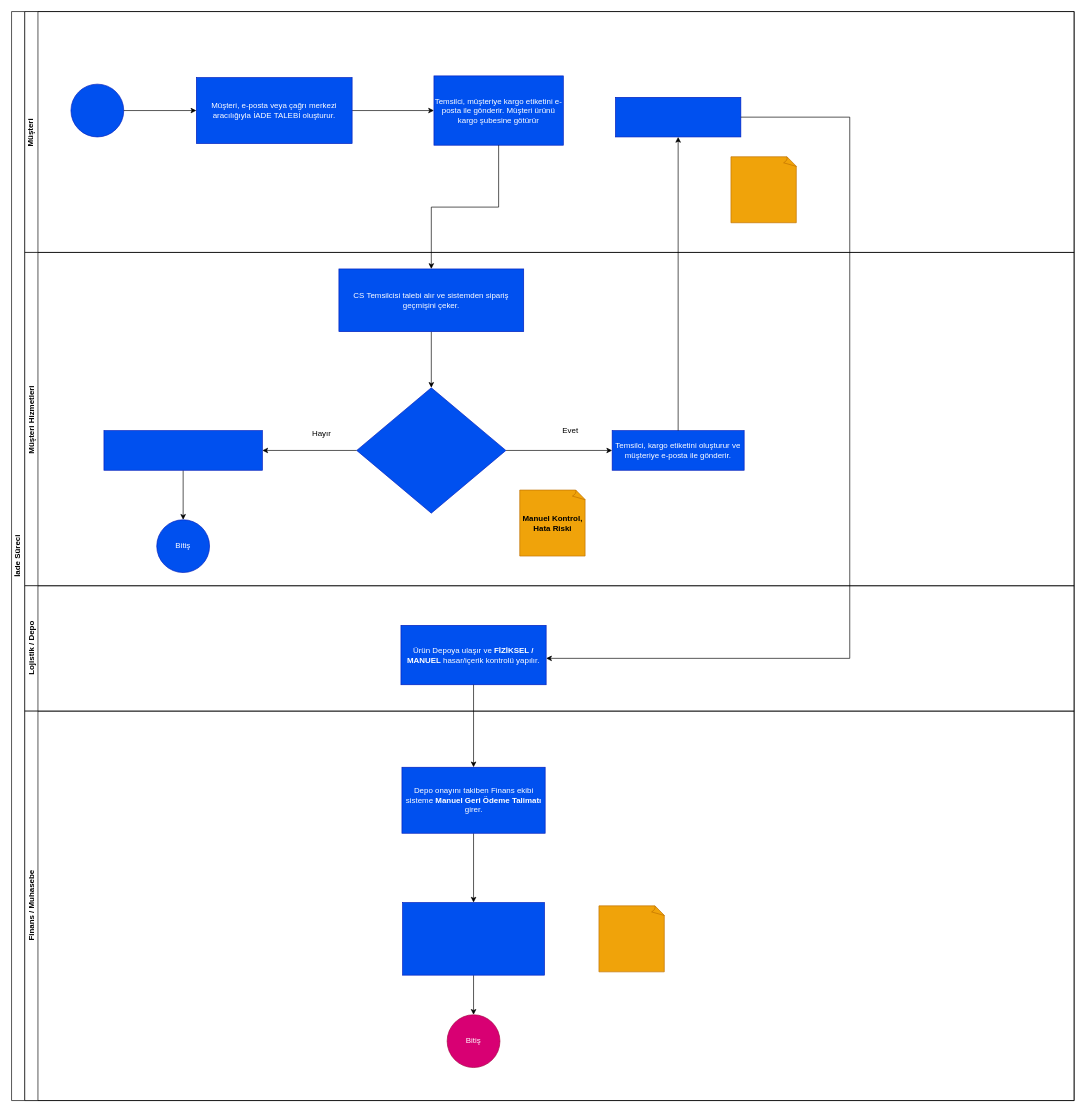
Image size: 1086x1112. Some labels were removed from this diagram. The shapes that lost their labels are listed below. From the top down, each one's centre as x and y in pixels, then its label:
At (x=97, y=110): "Başlangıç".
At (x=678, y=117): "Müşteri ürünü paketler ve KARGO ŞUBESİNE GÖTÜRÜR".
At (x=763, y=189): "Müşteri Zahmeti".
At (x=182, y=450): "İADE REDDİ: Müşteri, red nedeni (süre aşımı vb.) ile bilgilendirilir.".
At (x=431, y=450): "Müşteri Hizmetleri Temsilcisi iade şartlarını manuel kontrol eder.".
At (x=473, y=938): "Geri Ödeme banka sistemine iletilir ve müşteriye ulaşır.".
At (x=631, y=938): "7 İş Günü Süre".
